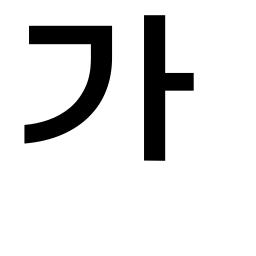Gaji: (129, 59, 183, 112)
